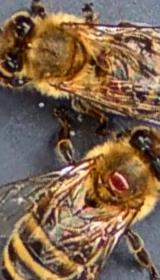varroa_mite: (107, 161, 131, 198)
